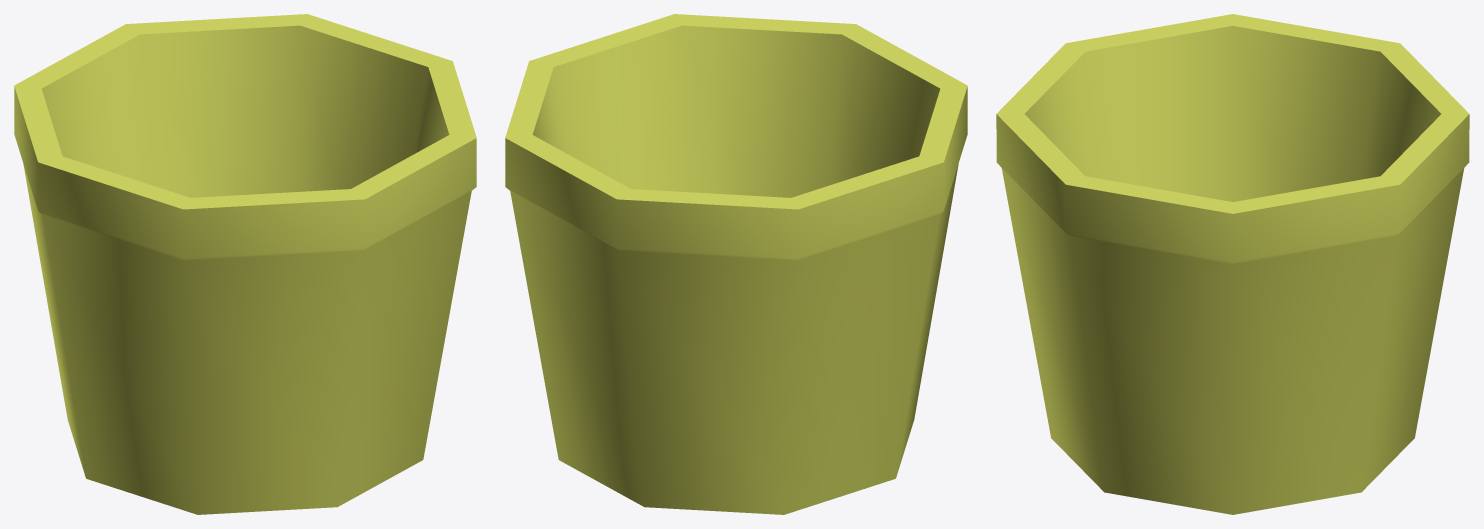
The model's file is li_cup03.fbx.
3 renders of one model, left to right at view 1: azimuth 30°, elevation 25°; view 2: azimuth 150°, elevation 25°; view 3: azimuth 270°, elevation 25°, orthographic.
Visible parts, largest first — view 1: li_cup03; view 2: li_cup03; view 3: li_cup03.
Part boxes in pixels (box(x1,y1,x2,y2)): li_cup03: box(14, 14, 476, 514); li_cup03: box(505, 14, 967, 514); li_cup03: box(996, 14, 1469, 514).
Bounding box in the file's own units: 11.41 × 8.63 × 11.41.
